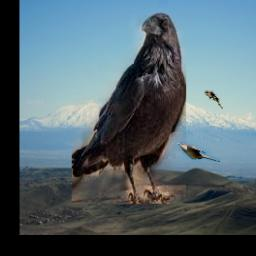Crow: (72, 13, 186, 205)
Cuckoo: (176, 143, 220, 163), (205, 91, 224, 109)
